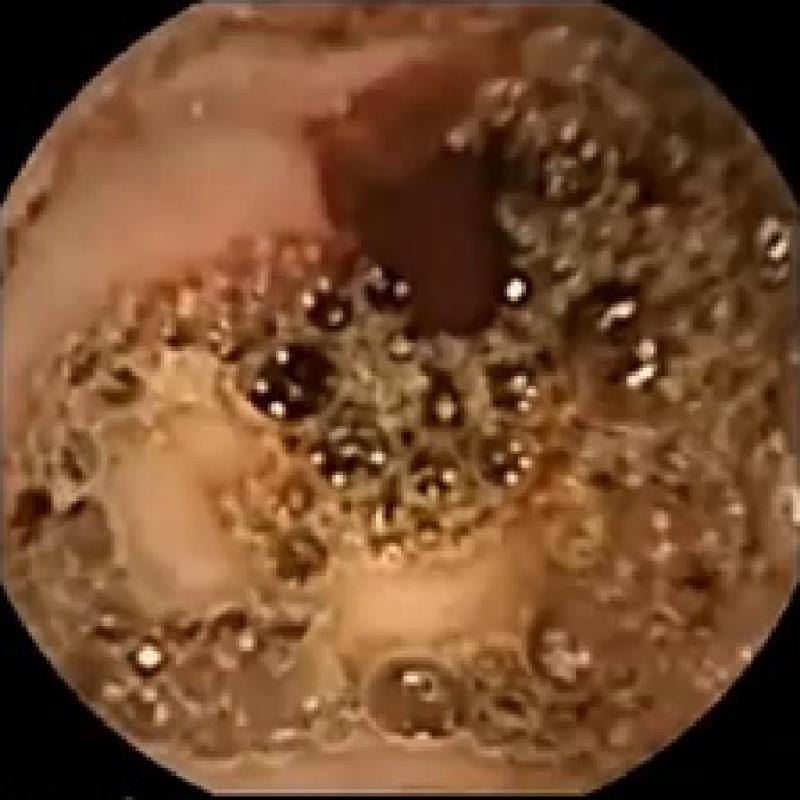bleeding: (250, 154, 543, 489)
